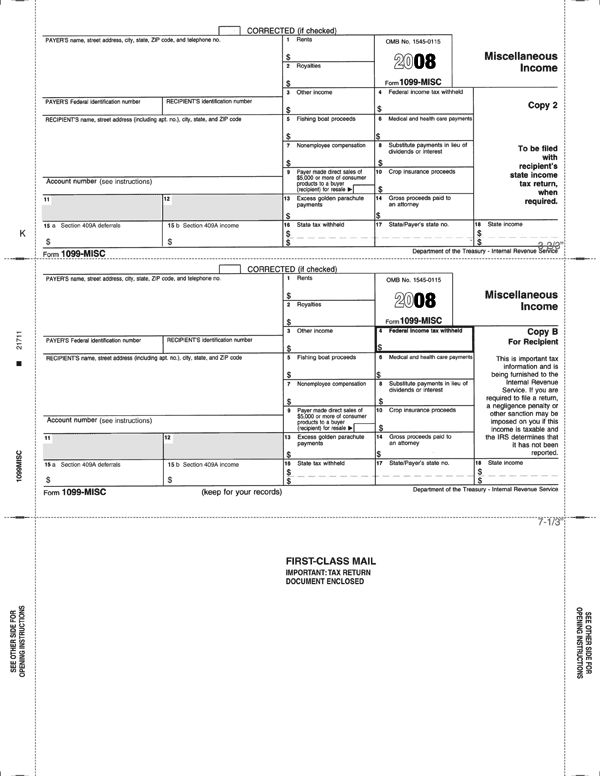checkbox: (349, 181, 376, 196), (214, 21, 241, 36), (351, 419, 378, 434), (215, 261, 242, 275)
textbox: (31, 32, 286, 98), (29, 112, 284, 178), (31, 271, 286, 337), (30, 352, 285, 418), (27, 412, 287, 437), (29, 173, 287, 196), (27, 189, 166, 223), (28, 428, 167, 462), (159, 427, 286, 463), (160, 189, 285, 223), (160, 216, 285, 250), (161, 455, 286, 489), (31, 216, 164, 247), (32, 457, 165, 488), (372, 136, 478, 168), (371, 163, 477, 195), (370, 189, 476, 221), (372, 216, 478, 248), (373, 455, 477, 487), (373, 428, 477, 460), (373, 402, 477, 434), (373, 375, 477, 407), (373, 349, 477, 381), (373, 321, 477, 353), (469, 455, 573, 487), (279, 31, 377, 64), (279, 56, 377, 89), (279, 83, 377, 116), (281, 109, 379, 142), (281, 136, 379, 169), (30, 93, 163, 117), (32, 332, 165, 356), (159, 91, 286, 116), (278, 189, 378, 220), (278, 218, 378, 249), (279, 270, 379, 301), (278, 297, 378, 328), (279, 323, 379, 354), (279, 350, 379, 381), (279, 377, 379, 408), (278, 429, 378, 460), (279, 456, 379, 487), (472, 216, 568, 248), (373, 85, 476, 114), (373, 112, 476, 141), (158, 332, 287, 355)
